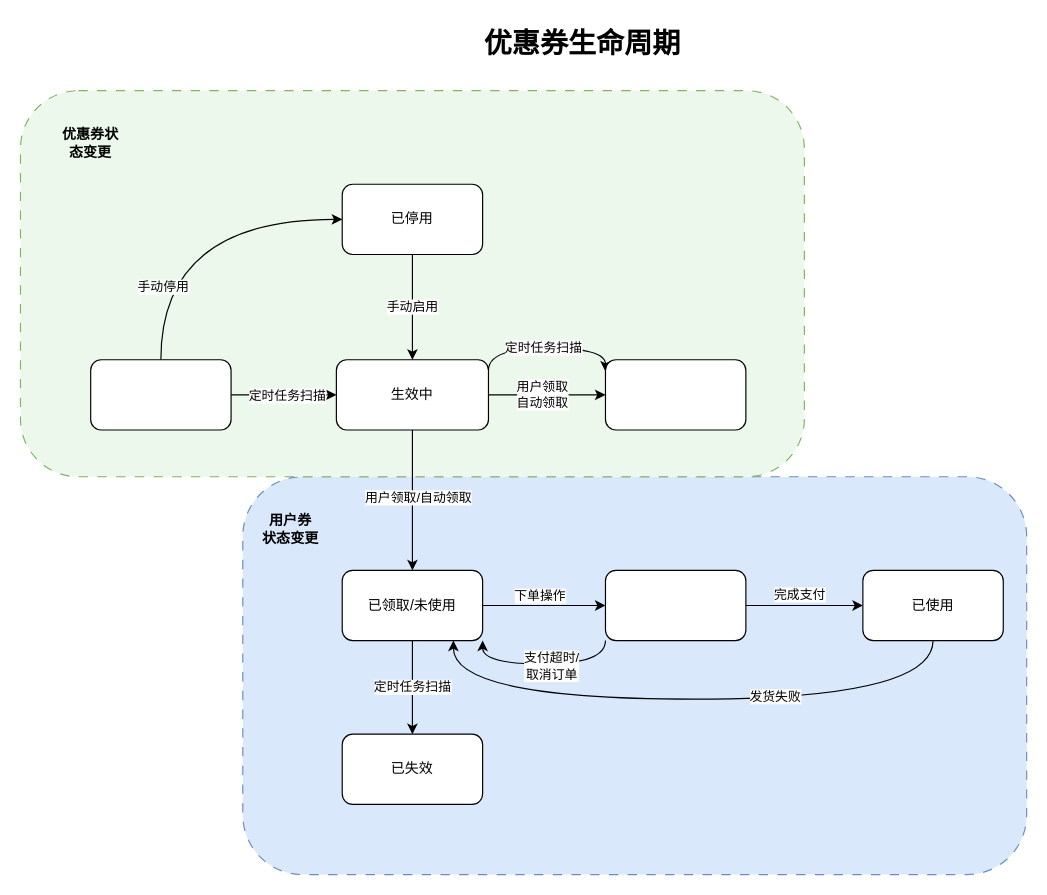
This 1047x895 diagram has some shape labels left out. The centre of each missing label's shape, as x and y in pixels:
"已结束/已领完" belongs at (x=675, y=394).
"已锁定" belongs at (x=675, y=605).
"未生效" belongs at (x=160, y=394).
